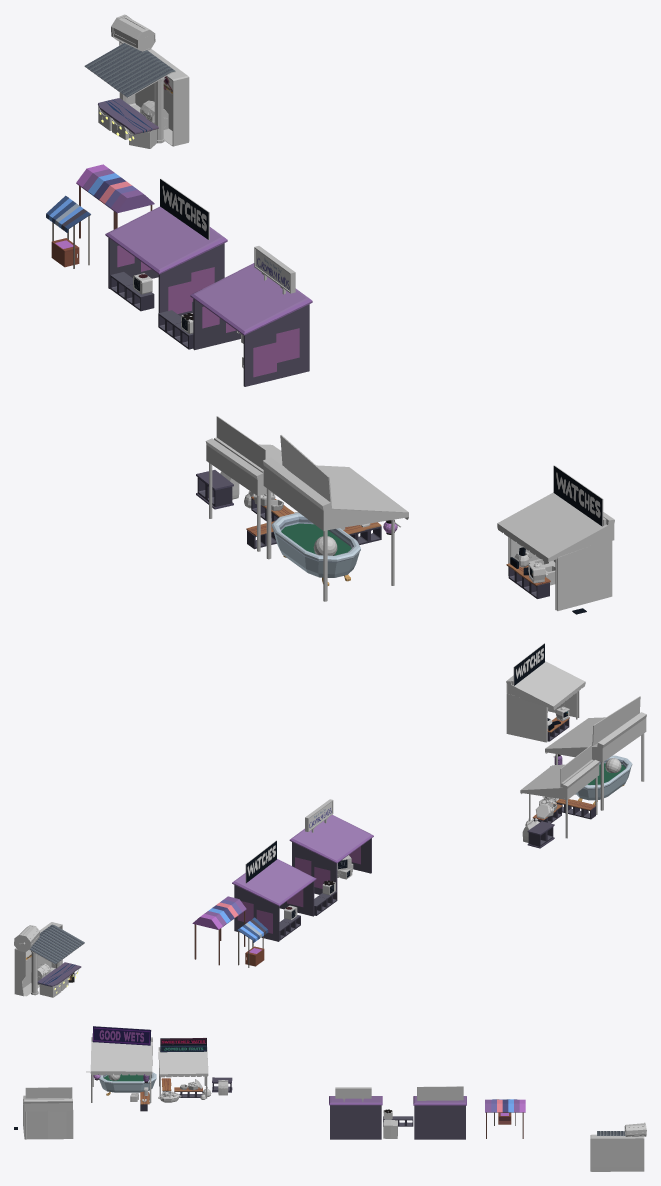
The model's file is DBStands.fbx.
3 renders of one model, top to bottom at view 1: azimuth 30°, elevation 25°; view 2: azimuth 150°, elevation 25°; view 3: azimuth 270°, elevation 25°, orthographic. The views are drawn at different scales.
Visible parts, largest first — view 1: Stand.019, CubClub.Awning, Stand.018, Awning.017, Watches_Awning.006, Awning.029, Bathtub.001, Awning.007, Cube.4493, plank.counter, Posters.045, Cube.4496 (+9 smaller); view 2: Stand.018, Stand.019, CubClub.Awning, Awning.017, Watches_Awning.006, Awning.029, Awning.007, Cube.4493, Poster.071, plank.counter, Bathtub.001, Cube.4496 (+8 smaller); view 3: CubClub.Awning, Stand.019, Awning.017, Stand.018, Awning.029, Awning.007, Poster.071, Watches_Awning.006, StoreSign, Bathtub.001, Poster.170, Cube.4493 (+4 smaller).
Boxes of the visible parts, x1=… form: Stand.019: x1=190, y1=263, x2=312, y2=386; CubClub.Awning: x1=84, y1=14, x2=189, y2=146; Stand.018: x1=105, y1=206, x2=227, y2=316; Awning.017: x1=263, y1=457, x2=408, y2=601; Watches_Awning.006: x1=497, y1=492, x2=614, y2=610; Awning.029: x1=508, y1=537, x2=612, y2=610; Bathtub.001: x1=271, y1=513, x2=360, y2=585; Awning.007: x1=205, y1=438, x2=282, y2=551; Cube.4493: x1=76, y1=164, x2=154, y2=238; plank.counter: x1=98, y1=98, x2=158, y2=148; Posters.045: x1=202, y1=306, x2=299, y2=377; Cube.4496: x1=46, y1=195, x2=90, y2=268; Stand.018: x1=232, y1=859, x2=316, y2=941; Stand.019: x1=289, y1=814, x2=373, y2=894; CubClub.Awning: x1=14, y1=922, x2=84, y2=996; Awning.017: x1=545, y1=712, x2=646, y2=810; Watches_Awning.006: x1=506, y1=661, x2=585, y2=742; Awning.029: x1=506, y1=691, x2=579, y2=742; Awning.007: x1=520, y1=760, x2=599, y2=838; Cube.4493: x1=192, y1=896, x2=246, y2=965; Poster.071: x1=592, y1=696, x2=640, y2=745; plank.counter: x1=37, y1=962, x2=81, y2=997; Bathtub.001: x1=576, y1=755, x2=632, y2=804; Cube.4496: x1=237, y1=917, x2=268, y2=967; CubClub.Awning: x1=590, y1=1122, x2=646, y2=1171; Stand.019: x1=329, y1=1096, x2=382, y2=1139; Awning.017: x1=86, y1=1037, x2=152, y2=1103; Stand.018: x1=413, y1=1096, x2=466, y2=1139; Awning.029: x1=23, y1=1099, x2=73, y2=1139; Awning.007: x1=158, y1=1047, x2=208, y2=1098; Poster.071: x1=92, y1=1026, x2=151, y2=1045; Watches_Awning.006: x1=23, y1=1095, x2=72, y2=1139; StoreSign: x1=417, y1=1086, x2=463, y2=1100; Bathtub.001: x1=99, y1=1072, x2=156, y2=1095; Poster.170: x1=160, y1=1037, x2=206, y2=1052; Cube.4493: x1=485, y1=1099, x2=525, y2=1138.
Bounding box in the file's own units: 2423 × 769 × 7202.
